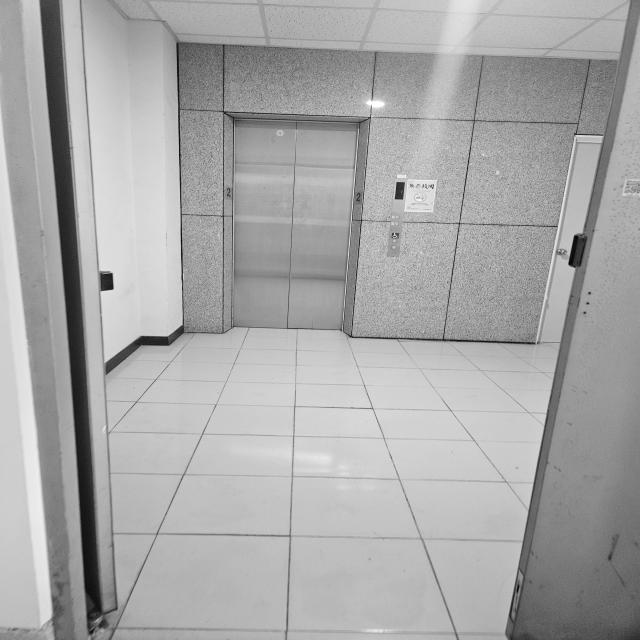Road-Object: (108, 328, 550, 640)
